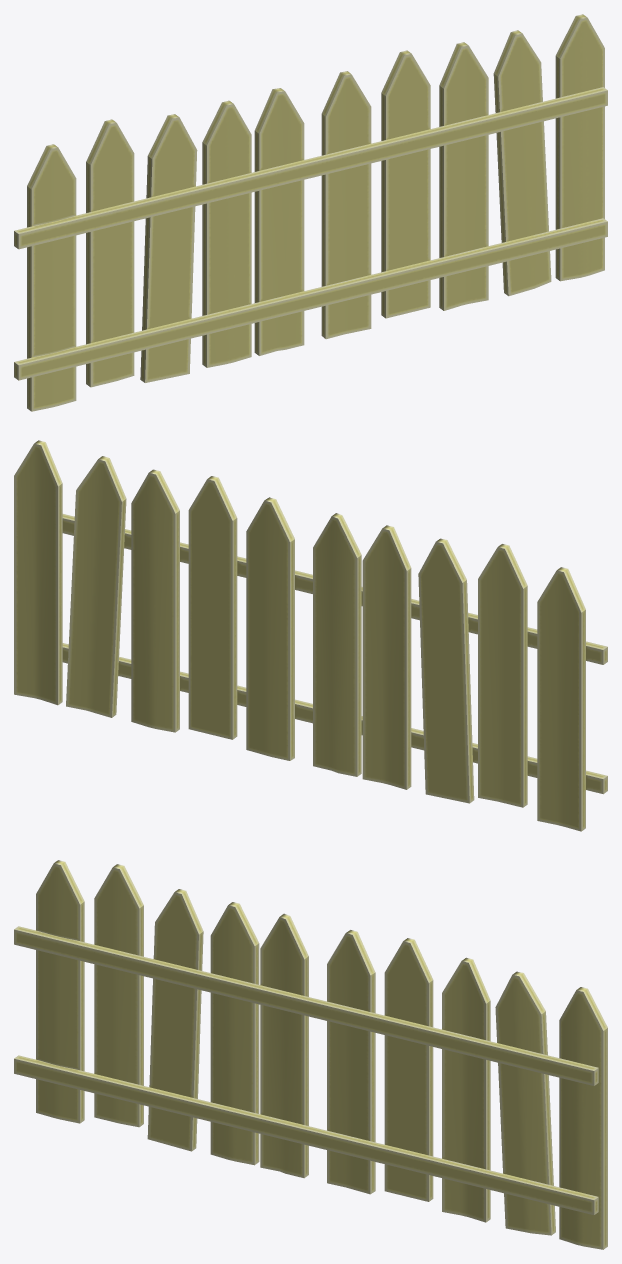
File: fence.fbx
3 renders of one model, top to bottom at view 1: azimuth 30°, elevation 25°; view 2: azimuth 150°, elevation 25°; view 3: azimuth 330°, elevation 25°, orthographic.
Parts seen in each view (by area): view 1: Fence_Panel_geo12; view 2: Fence_Panel_geo12; view 3: Fence_Panel_geo12.
Part boxes in pixels (<box>): Fence_Panel_geo12: <box>14,14,607,411</box>; Fence_Panel_geo12: <box>14,440,607,831</box>; Fence_Panel_geo12: <box>14,860,607,1249</box>.
Size of the model in its own units: 101 by 43.66 by 3.3.
